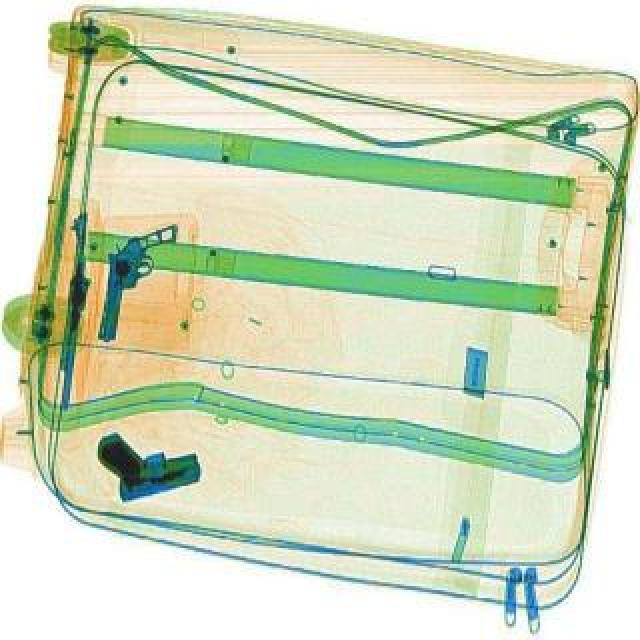gun: (90, 414, 206, 510), (96, 220, 178, 352), (50, 208, 94, 420)
